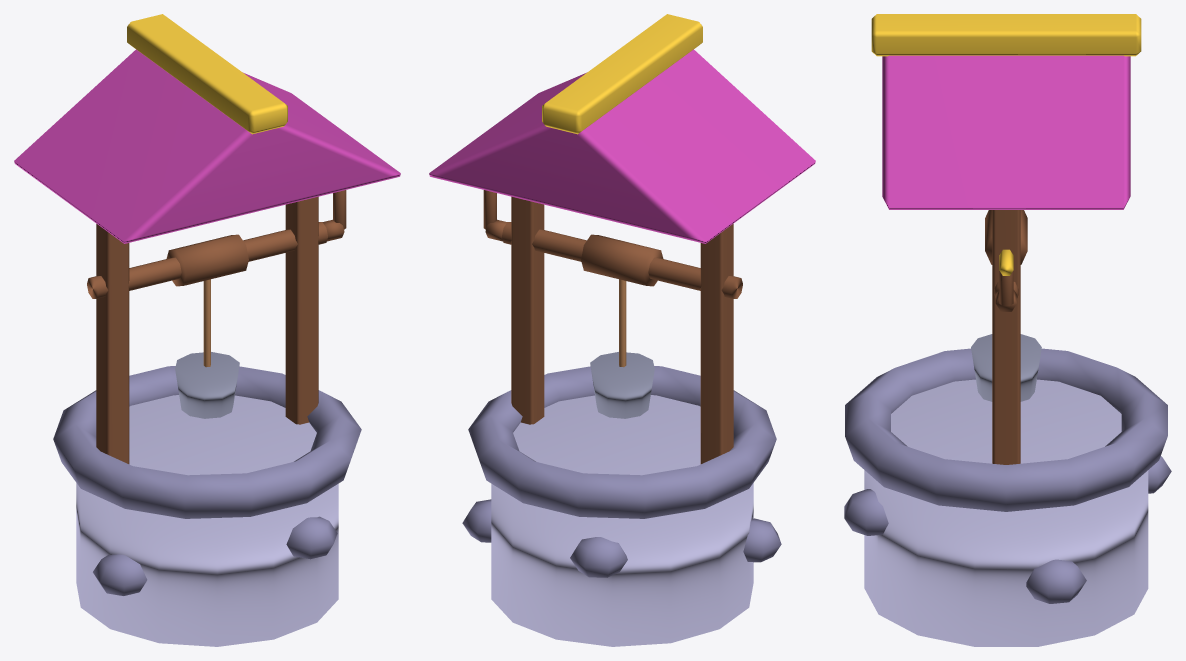
Rendered from well.glb.
3 renders of one model, left to right at view 1: azimuth 30°, elevation 25°; view 2: azimuth 150°, elevation 25°; view 3: azimuth 270°, elevation 25°, orthographic. The views are drawn at different scales.
Parts seen in each view (by area): view 1: Well.001; view 2: Well.001; view 3: Well.001.
Boxes of the visible parts, x1,y1,x2,y2 form: Well.001: (14, 14, 400, 646); Well.001: (429, 14, 815, 646); Well.001: (844, 14, 1171, 646).
Bounding box in the file's own units: 1.04 × 1.76 × 0.9228.
